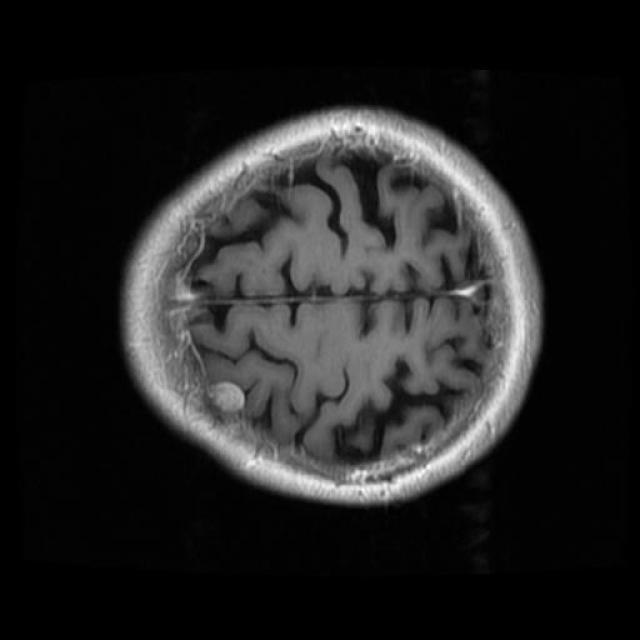Meningioma: (209, 381, 245, 413)
